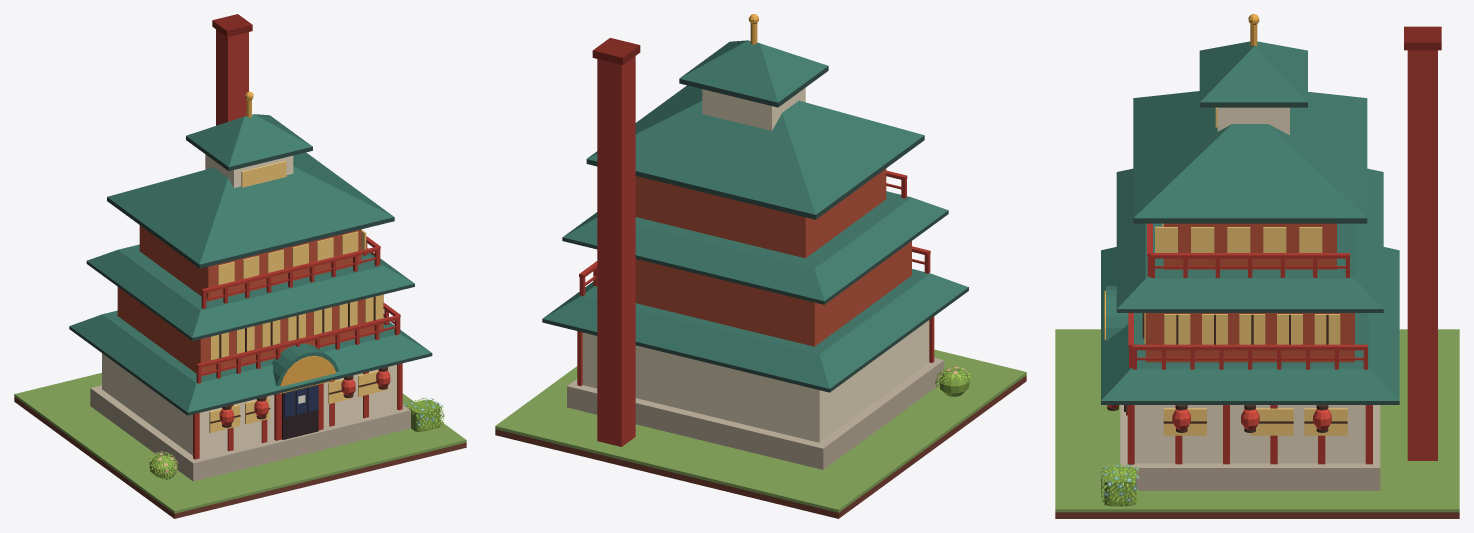
The model's file is library.glb.
3 views of the same model, side by side, from view 1: azimuth 30°, elevation 25°; view 2: azimuth 150°, elevation 25°; view 3: azimuth 270°, elevation 25° (orthographic). The views are drawn at different scales.
Visible parts, largest first — view 1: library; view 2: library; view 3: library.
Boxes of the visible parts, box(x1,y1,x2,y2) form: library: box(14, 14, 466, 518); library: box(495, 14, 1026, 518); library: box(1055, 14, 1459, 518).
Bounding box in the file's own units: 5.9 × 6.57 × 5.6.
